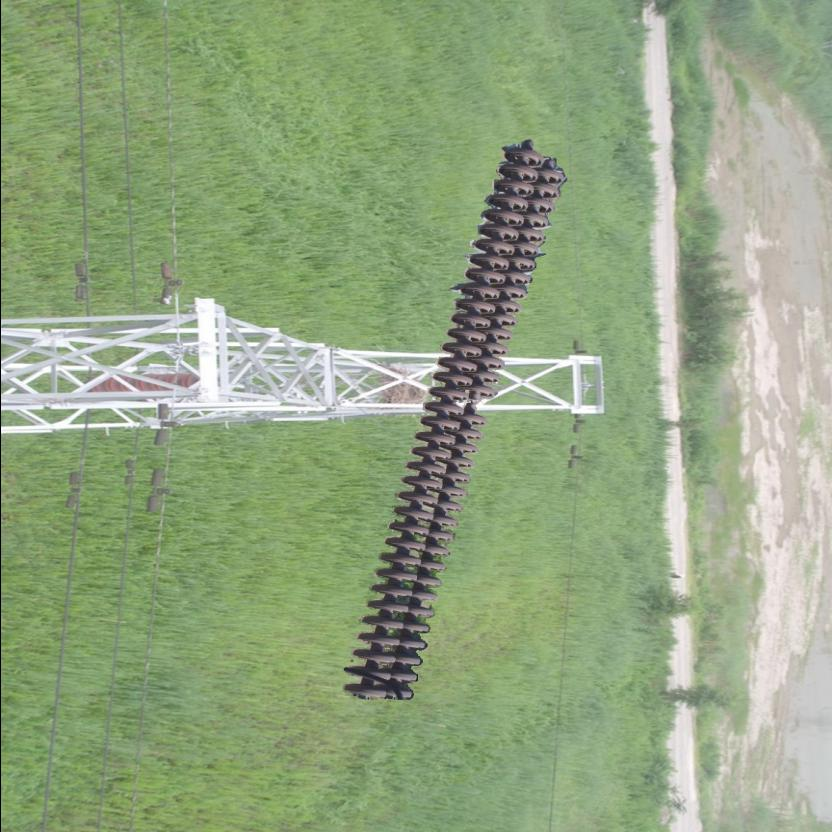defect: (458, 380, 498, 428)
